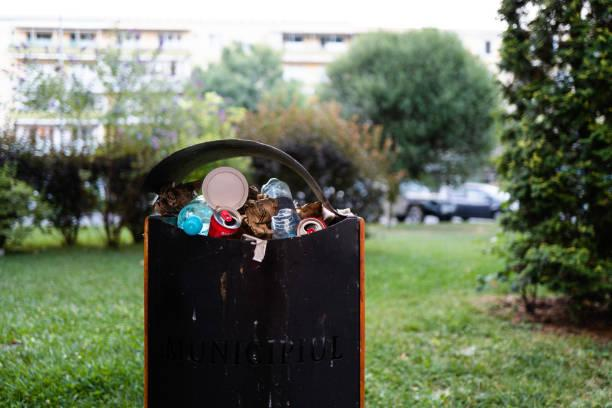trash: (133, 157, 337, 244)
trash_can_overflow: (118, 112, 383, 408)
